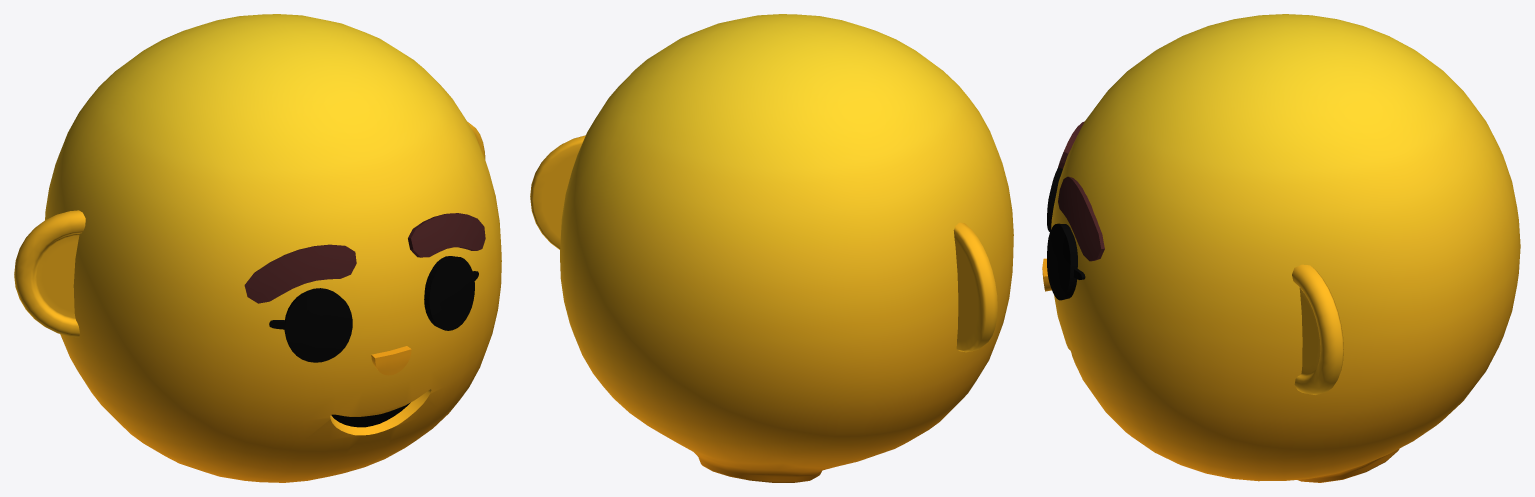
Rendered from woman_bald.gltf.
3 views of the same model, side by side, from view 1: azimuth 30°, elevation 25°; view 2: azimuth 150°, elevation 25°; view 3: azimuth 270°, elevation 25° (orthographic).
Parts seen in each view (by area): view 1: Roundcube.024, Circle.351, ears.020, Circle.353, Circle.352; view 2: Roundcube.024, ears.020; view 3: Roundcube.024, ears.020, Circle.353, Circle.351.
Part boxes in pixels (left/top/right/bottom): Roundcube.024: left=45, top=14, right=501, bottom=482; Circle.351: left=284, top=256, right=474, bottom=362; ears.020: left=14, top=121, right=485, bottom=337; Circle.353: left=244, top=213, right=485, bottom=303; Circle.352: left=371, top=346, right=411, bottom=375; Roundcube.024: left=560, top=14, right=1013, bottom=482; ears.020: left=530, top=135, right=997, bottom=352; Roundcube.024: left=1051, top=14, right=1520, bottom=482; ears.020: left=1292, top=264, right=1343, bottom=394; Circle.353: left=1058, top=121, right=1104, bottom=261; Circle.351: left=1047, top=167, right=1077, bottom=300.
Size of the model in its own units: 1.76 by 1.52 by 1.54.
2 materials, 2 textured.
